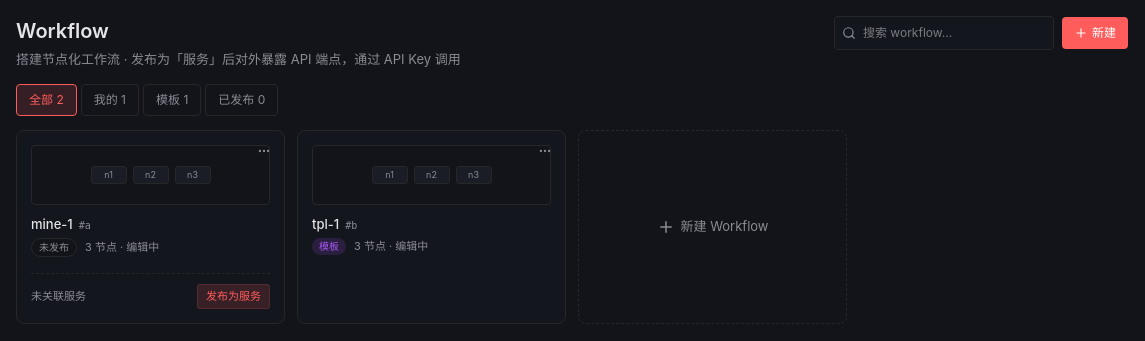
Test: WorkflowsList › templates tab filters out non-template rows
This screenshot has width=1145, height=341.
Step 1. Click the button "模板 1" → (172, 100), box left=143, top=84, right=201, bottom=116
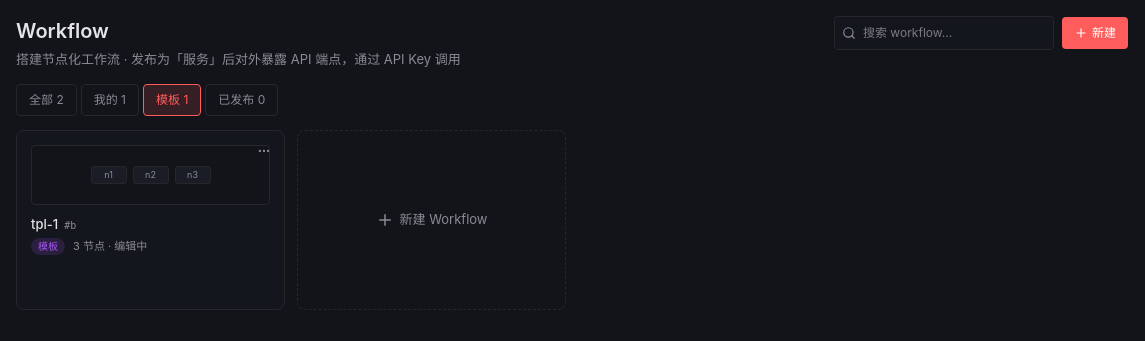
Expected: the text "tpl-1" is shown, left=31, top=214, right=58, bottom=234
Result: the button "mine-1" is gone
